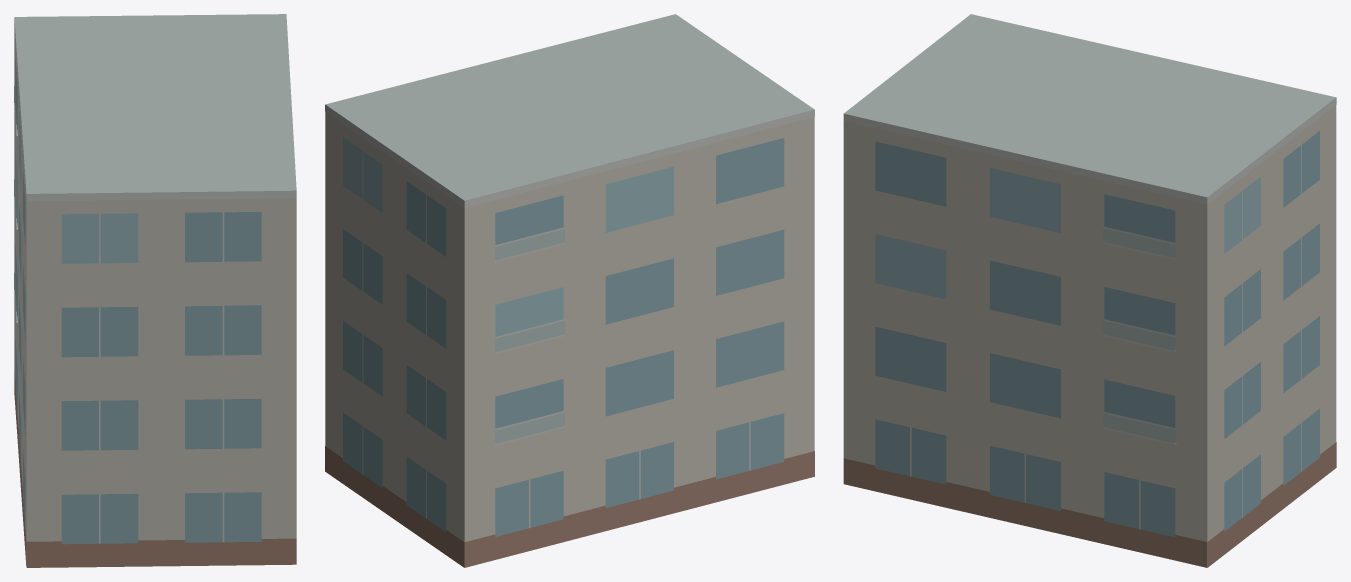
The model's file is survey-upis-32870071.glb.
3 renders of one model, left to right at view 1: azimuth 30°, elevation 25°; view 2: azimuth 150°, elevation 25°; view 3: azimuth 270°, elevation 25°, orthographic.
Parts seen in each view (by area): view 1: survey-upis-32870071.tmp; view 2: survey-upis-32870071.tmp; view 3: survey-upis-32870071.tmp.
Part boxes in pixels (box(x1,y1,x2,y2)): survey-upis-32870071.tmp: box(14, 14, 296, 567); survey-upis-32870071.tmp: box(325, 14, 814, 567); survey-upis-32870071.tmp: box(843, 14, 1336, 567).
Size of the model in its own units: 13.17 by 12.4 by 14.96.
